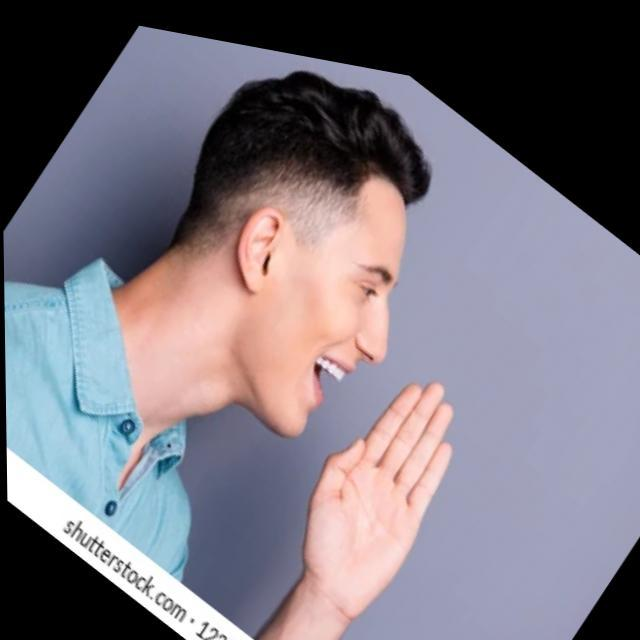Nonhelmet: (163, 62, 443, 453)
